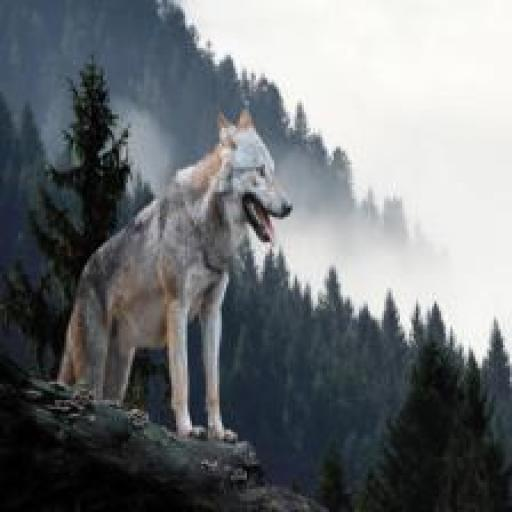wolf: (53, 117, 297, 441)
